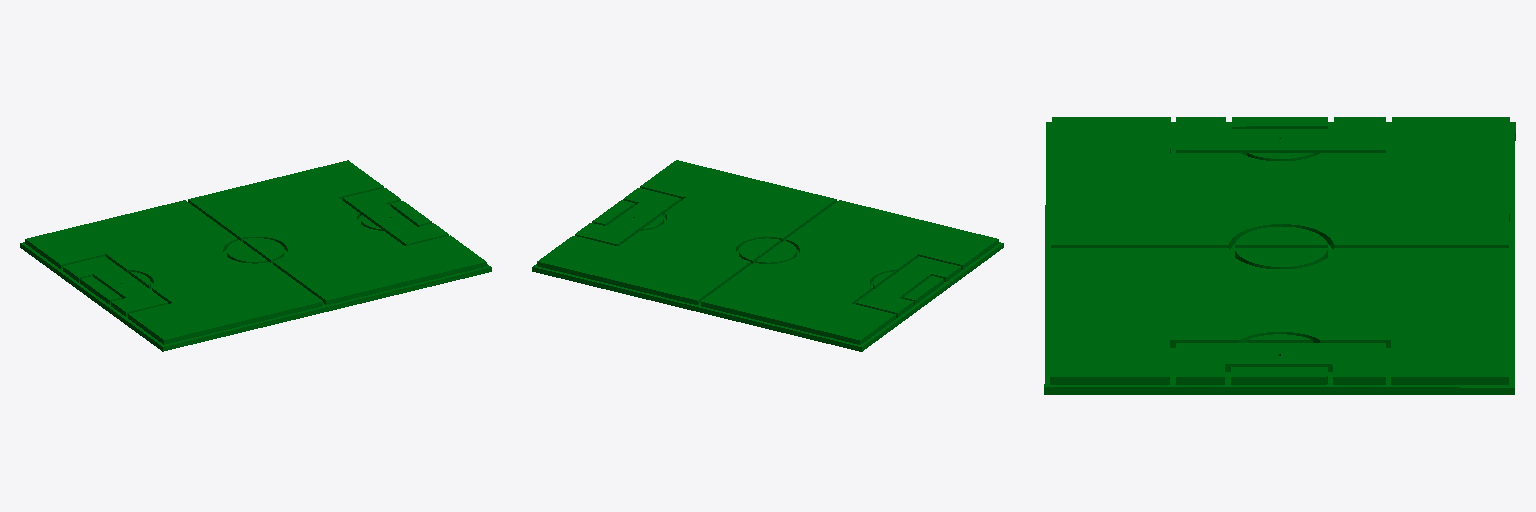
The robot description file, URDF, robot "football_pitch.urdf":
<?xml version="1.0"?>
<robot name="football_pitch.urdf">

  <link name="football_pitch">
    <visual>
      <origin xyz="0 0 0" rpy="0 0 1.57" />
      <geometry>
        <mesh filename="package://katana/katana/Football+Pitch.stl" scale="0.003 0.003 0.003"/>
      </geometry>

      <material name="green">
        <color rgba="0.0 0.463 0.094 1.0"/>
      </material>
    </visual>
    <collision>
      <origin xyz="0 0 0" rpy="0 0 1.57" />
      <geometry>
        <mesh filename="package://katana/katana/Football+Pitch.stl"/>
      </geometry>
    </collision>
    <inertial>
      <mass value="1.4047990875" />
      <origin xyz="0 0 0"/>
      <inertia ixx="0.1" ixy="0" ixz="0" 
        iyy="0.1" iyz="0" 
        izz="0.1" />
    </inertial>
  </link>
</robot>

--- Facts derived from the render (not from the file) ---
Views: 3 orthographic renders of the robot side by side, from view 1: azimuth 30°, elevation 25°; view 2: azimuth 150°, elevation 25°; view 3: azimuth 270°, elevation 25°.
Model football_pitch.urdf with 1 links and 0 joints (none), rooted at football_pitch, posed every joint at zero.
Links seen in each view (by area): view 1: football_pitch; view 2: football_pitch; view 3: football_pitch.
Link boxes in pixels (x1,y1,x2,y2): football_pitch: [20, 160, 491, 351]; football_pitch: [532, 160, 1003, 351]; football_pitch: [1044, 117, 1515, 394].
Size in the robot's own frame: 0.6463 by 0.4846 by 0.018 metres.
Meshes: 1 distinct files referenced, 1 mesh visuals loaded (1 binary STL).